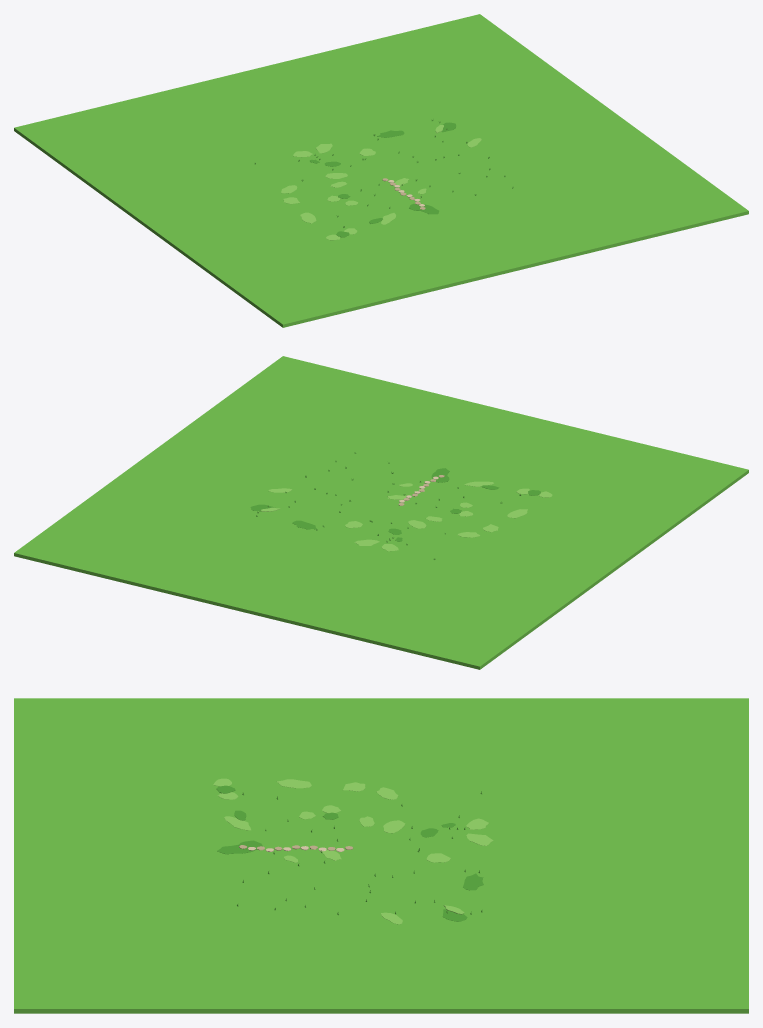
The model's file is ground.glb.
3 views of the same model, one above another, from view 1: azimuth 30°, elevation 25°; view 2: azimuth 150°, elevation 25°; view 3: azimuth 270°, elevation 25° (orthographic). The views are drawn at different scales.
Visible parts, largest first — view 1: ground_mesh; view 2: ground_mesh; view 3: ground_mesh.
Boxes of the visible parts, bbox=[...] form: ground_mesh: bbox=[14, 14, 748, 327]; ground_mesh: bbox=[14, 356, 748, 669]; ground_mesh: bbox=[14, 698, 748, 1013].
Size of the model in its own units: 60 by 0.6665 by 60.
Materials: 1 (1 with a texture image).
